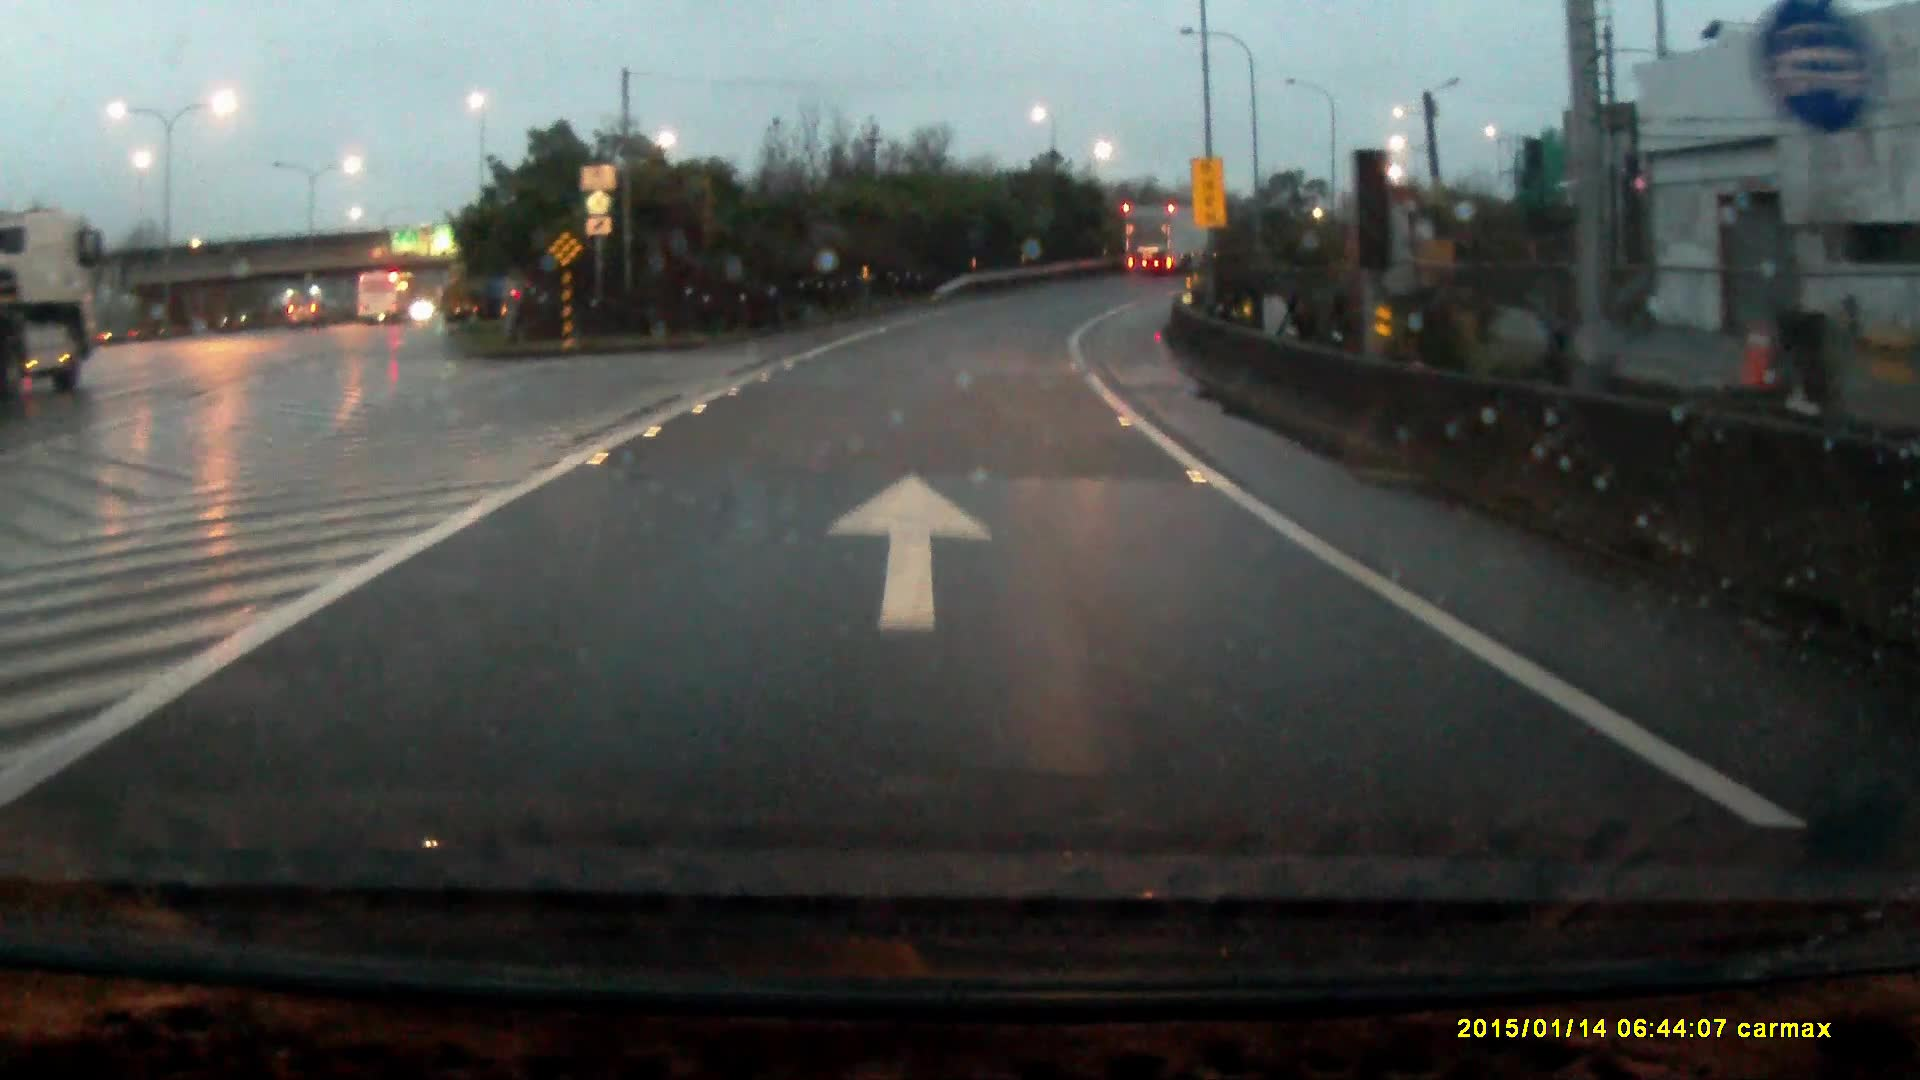vehicle: (1, 208, 111, 400), (1120, 204, 1222, 280), (357, 273, 414, 328), (289, 301, 320, 331)
